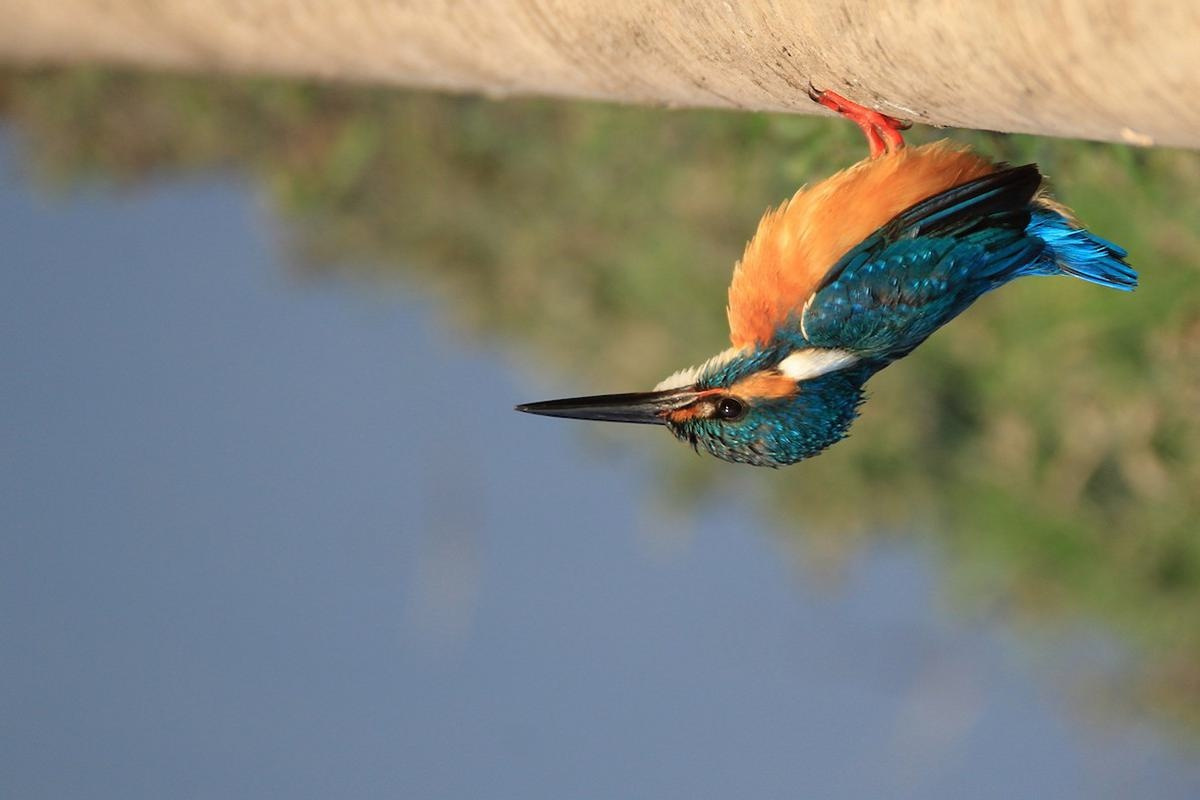kingfisher: (499, 82, 1129, 510)
